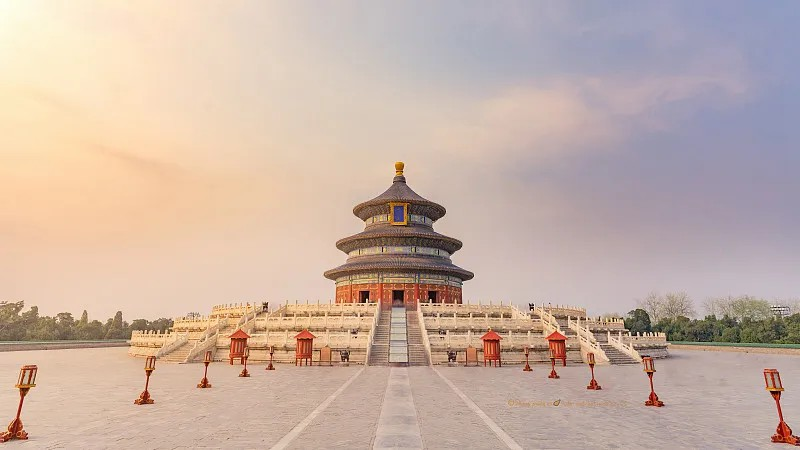Heaven: (323, 162, 475, 308)
